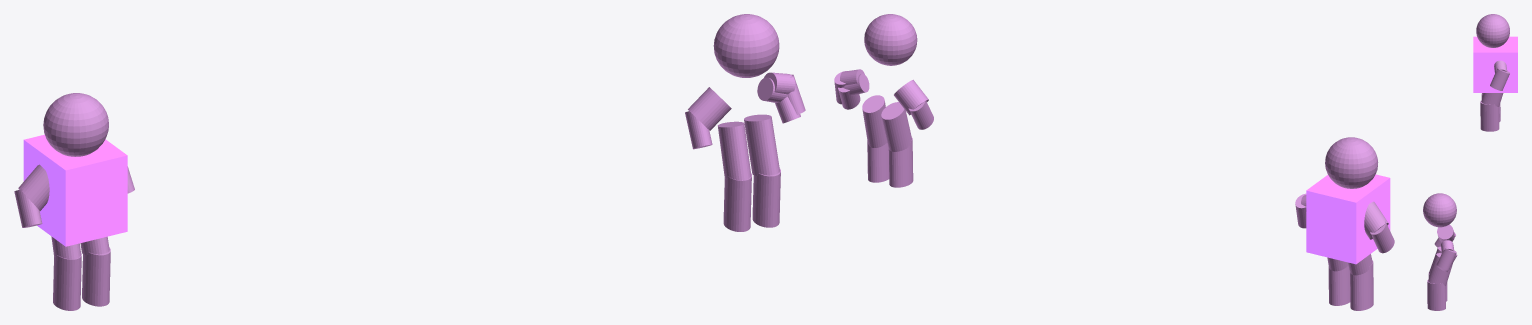
File: Sydni Holland jondagoat.fbx
The picture shows the model from 3 angles, left to right: view 1: azimuth 30°, elevation 25°; view 2: azimuth 150°, elevation 25°; view 3: azimuth 270°, elevation 25°; orthographic projection. The views are drawn at different scales.
Visible parts, largest first — view 1: Cube.001, Sphere.003, Sphere, Cylinder.005, Cylinder.002, Cylinder.025, Cylinder.024, Cylinder.007, Cylinder.006, Cylinder.001, Cylinder.030, Cylinder.027 (+1 smaller); view 2: Cube.001, Sphere, Sphere.003, Cylinder.002, Cylinder.005, Cylinder.025, Cylinder.006, Cylinder.024, Cylinder.007, Cylinder.001, Cylinder.030, Cylinder.027 (+1 smaller); view 3: Cube.001, Sphere.003, Sphere, Cylinder.024, Cylinder.007, Cylinder.005, Cylinder.028, Cylinder.003, Cylinder.001, Cylinder.026, Cylinder, Cylinder.031.
Boxes of the visible parts, x1,y1,x2,y2 form: Cube.001: [23, 134, 127, 246]; Sphere.003: [43, 93, 108, 156]; Sphere: [713, 14, 779, 77]; Cylinder.005: [744, 114, 779, 175]; Cylinder.002: [717, 121, 751, 182]; Cylinder.025: [53, 253, 81, 310]; Cylinder.024: [82, 247, 110, 306]; Cylinder.007: [752, 168, 780, 227]; Cylinder.006: [723, 173, 751, 231]; Cylinder.001: [688, 87, 731, 130]; Cylinder.030: [18, 164, 49, 211]; Cylinder.027: [14, 188, 42, 227]; Cube.001: [1306, 174, 1390, 264]; Sphere: [864, 14, 917, 65]; Sphere.003: [1325, 137, 1378, 188]; Cylinder.002: [881, 102, 911, 151]; Cylinder.005: [862, 95, 887, 147]; Cylinder.025: [1350, 260, 1373, 310]; Cylinder.006: [888, 138, 913, 187]; Cylinder.024: [1328, 265, 1350, 305]; Cylinder.007: [867, 141, 889, 182]; Cylinder.001: [894, 79, 928, 115]; Cylinder.030: [1364, 201, 1388, 239]; Cylinder.027: [1370, 221, 1394, 253]; Cube.001: [1473, 36, 1517, 92]; Sphere.003: [1476, 14, 1509, 47]; Sphere: [1423, 193, 1456, 227]; Cylinder.024: [1480, 100, 1499, 131]; Cylinder.007: [1427, 279, 1445, 310]; Cylinder.005: [1428, 253, 1452, 285]; Cylinder.028: [1490, 68, 1509, 90]; Cylinder.003: [1437, 248, 1456, 270]; Cylinder.001: [1437, 224, 1454, 242]; Cylinder.026: [1481, 93, 1503, 106]; Cylinder: [1441, 240, 1453, 253]; Cylinder.031: [1494, 60, 1507, 73].
Size of the model in its own units: 4781 by 1503 by 1012.
